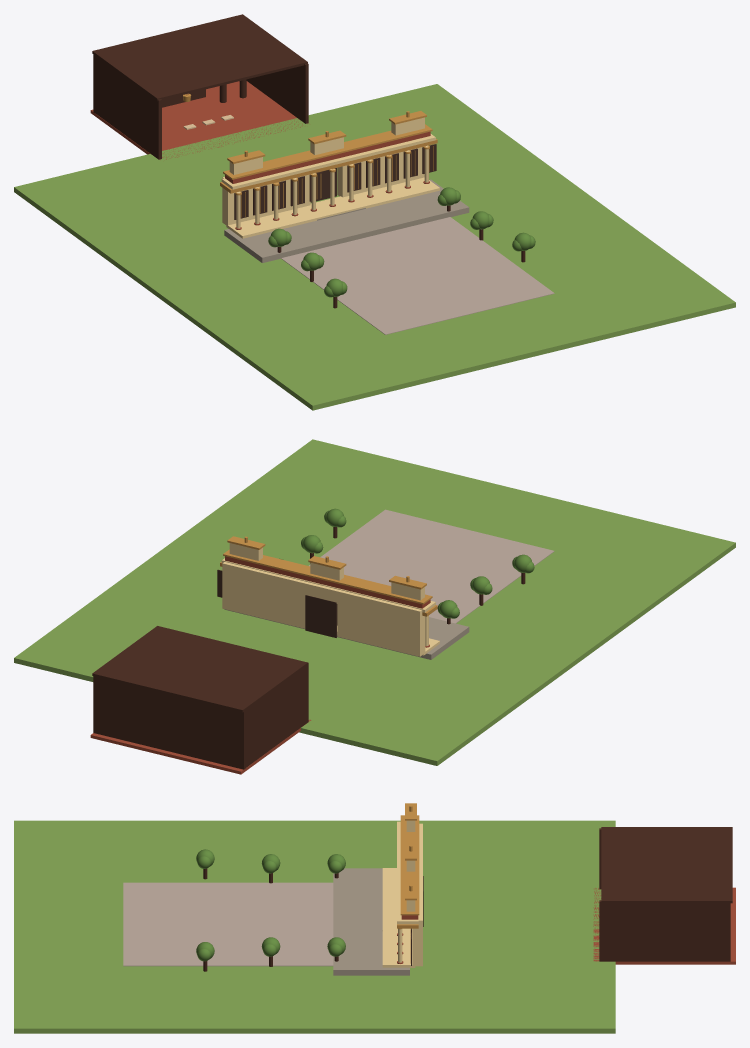
Rendered from chua-vinh-trang-phac-thao.glb.
The picture shows the model from 3 angles, top to bottom: view 1: azimuth 30°, elevation 25°; view 2: azimuth 150°, elevation 25°; view 3: azimuth 270°, elevation 25°; orthographic projection.
Parts seen in each view (by area): view 1: Chua Vinh Trang - phac thao 3D; view 2: Chua Vinh Trang - phac thao 3D; view 3: Chua Vinh Trang - phac thao 3D.
Part boxes in pixels (<box>): Chua Vinh Trang - phac thao 3D: <box>14,14,735,410</box>; Chua Vinh Trang - phac thao 3D: <box>14,439,735,774</box>; Chua Vinh Trang - phac thao 3D: <box>14,803,735,1033</box>.
Size of the model in its own units: 45 by 8.45 by 66.
